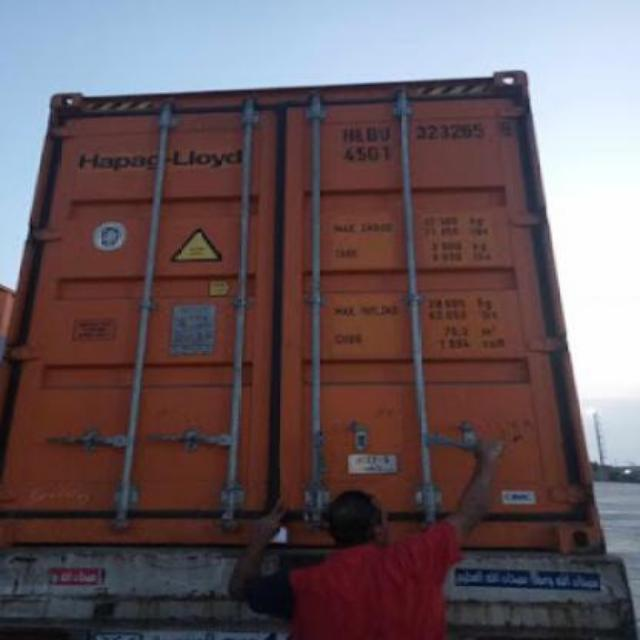2: (450, 117, 460, 147), (426, 120, 436, 142)
3: (436, 118, 449, 146), (412, 121, 426, 142)
5: (472, 117, 484, 143)
6: (462, 114, 472, 146)
8: (494, 116, 510, 140)
B: (364, 119, 378, 145)
H: (338, 122, 354, 146)
L: (352, 122, 366, 146)
U: (381, 118, 394, 146)
